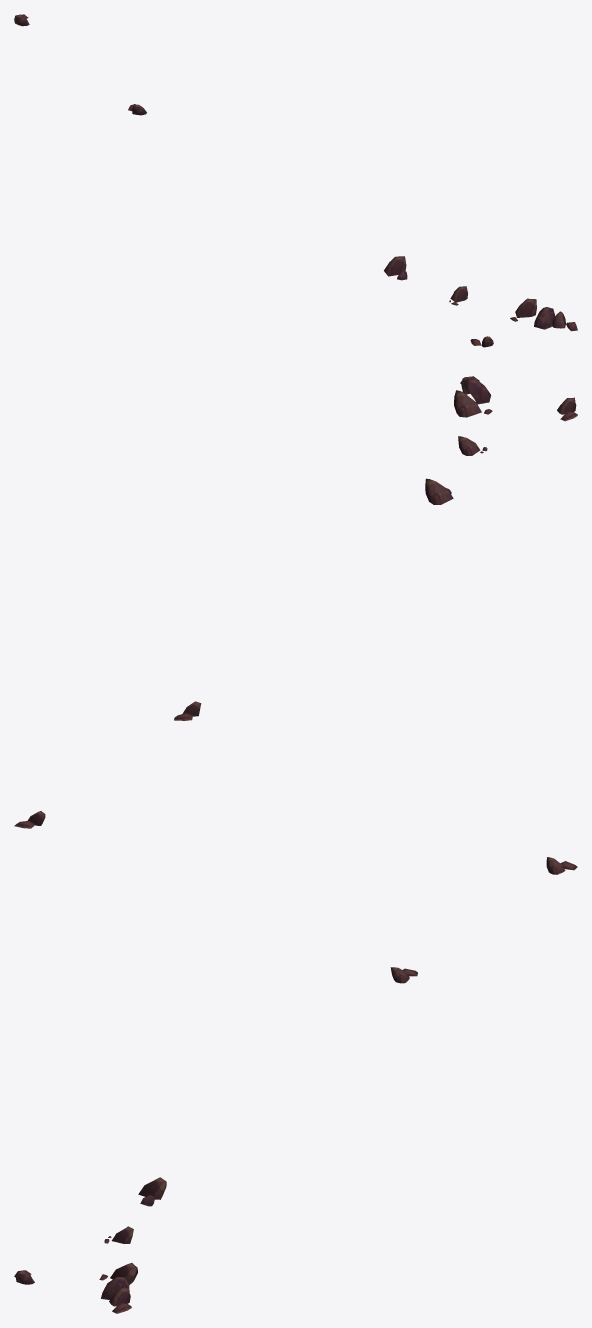
Rendered from area_12_shanshi01.FBX.
3 renders of one model, top to bottom at view 1: azimuth 30°, elevation 25°; view 2: azimuth 150°, elevation 25°; view 3: azimuth 330°, elevation 25°, orthographic. The views are drawn at different scales.
Parts seen in each view (by area): view 1: area_12_shanshi01; view 2: area_12_shanshi01; view 3: area_12_shanshi01.
Boxes of the visible parts, left/top/right/bottom form: area_12_shanshi01: left=14, top=14, right=577, bottom=347; area_12_shanshi01: left=14, top=376, right=577, bottom=828; area_12_shanshi01: left=14, top=857, right=577, bottom=1313.
Size of the model in its own units: 1834 by 266 by 12589.
